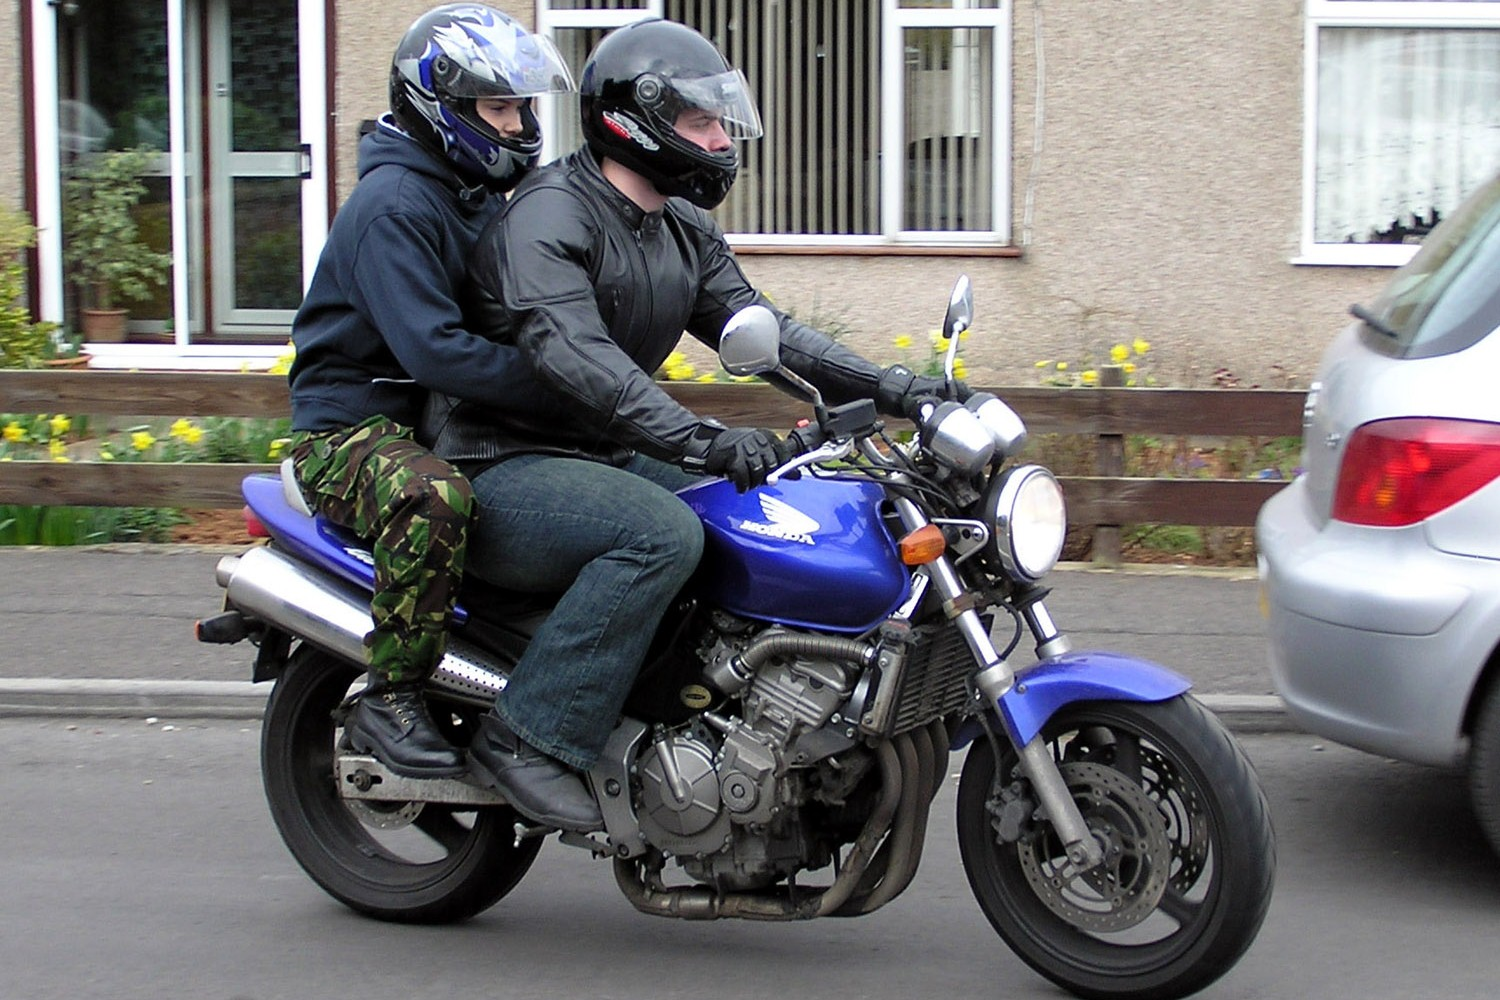bike: (228, 281, 1279, 979)
car: (1265, 140, 1496, 886)
